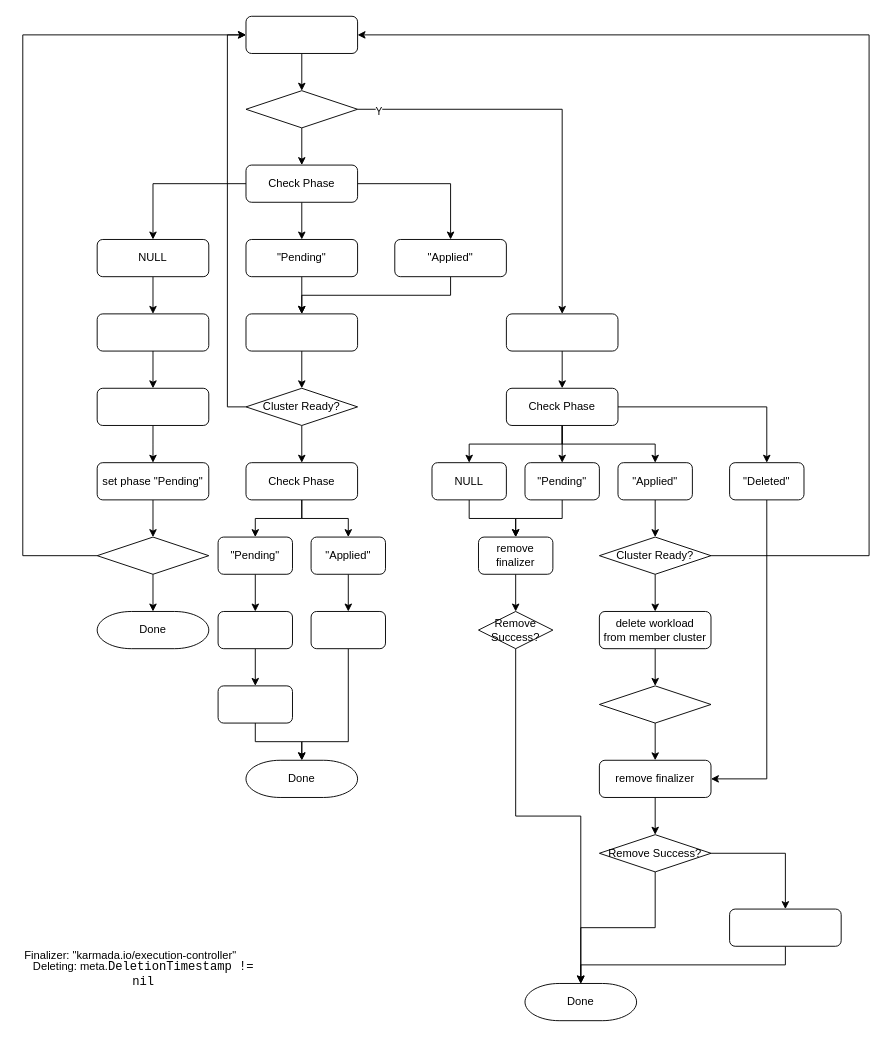
Image size: 893x1037. Some labels were removed from this diagram. The centre of each missing label's shape, as x and y in pixels:
Add Event: (x=152, y=332)
create workload: (x=254, y=630)
Delete Event: (x=561, y=332)
Delete Success?: (x=654, y=704)
Deleting?: (x=301, y=109)
Loop Queue: (x=301, y=34)
set finalizer: (x=152, y=406)
set Pahse "Applied": (x=254, y=704)
set phase "Deleted": (x=785, y=927)
Set Success?: (x=152, y=555)
Update Event: (x=301, y=332)
update workload: (x=347, y=630)
